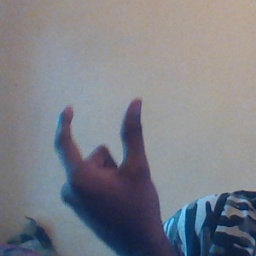U: (44, 88, 165, 224)
